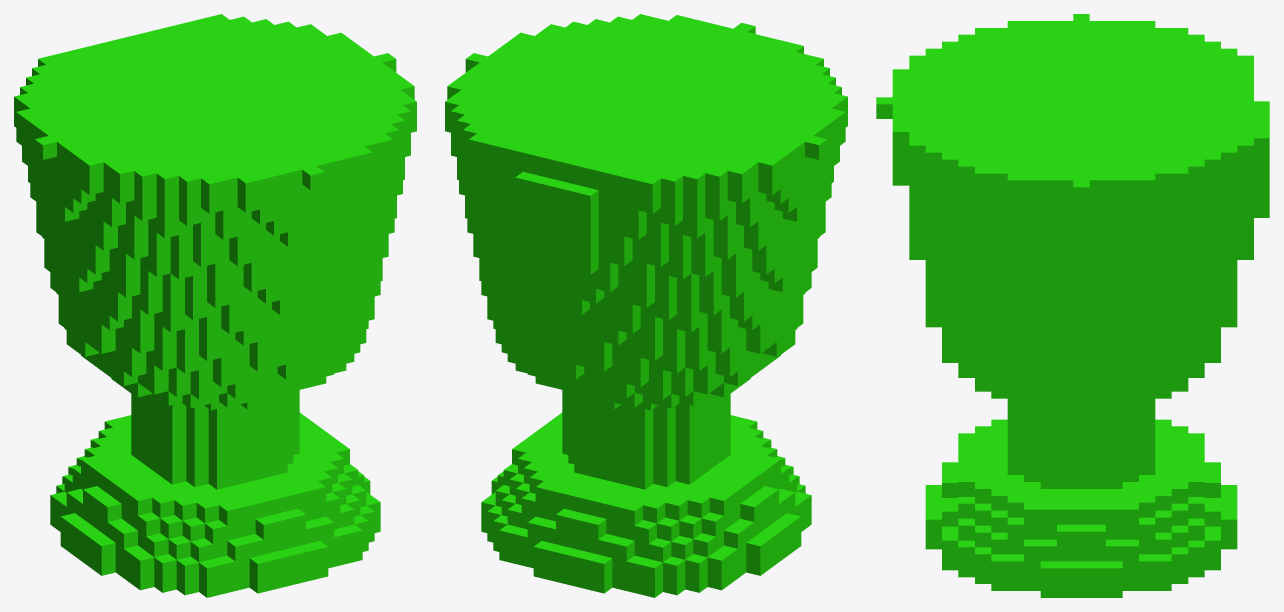
The model's file is prize.glb.
3 views of the same model, side by side, from view 1: azimuth 30°, elevation 25°; view 2: azimuth 150°, elevation 25°; view 3: azimuth 270°, elevation 25° (orthographic).
Parts seen in each view (by area): view 1: Cylinder; view 2: Cylinder; view 3: Cylinder.
Boxes of the visible parts, x1,y1,x2,y2 form: Cylinder: [14, 14, 416, 597]; Cylinder: [445, 14, 847, 597]; Cylinder: [876, 14, 1269, 597].
Bounding box in the file's own units: 0.9792 × 1.14 × 0.9384.
